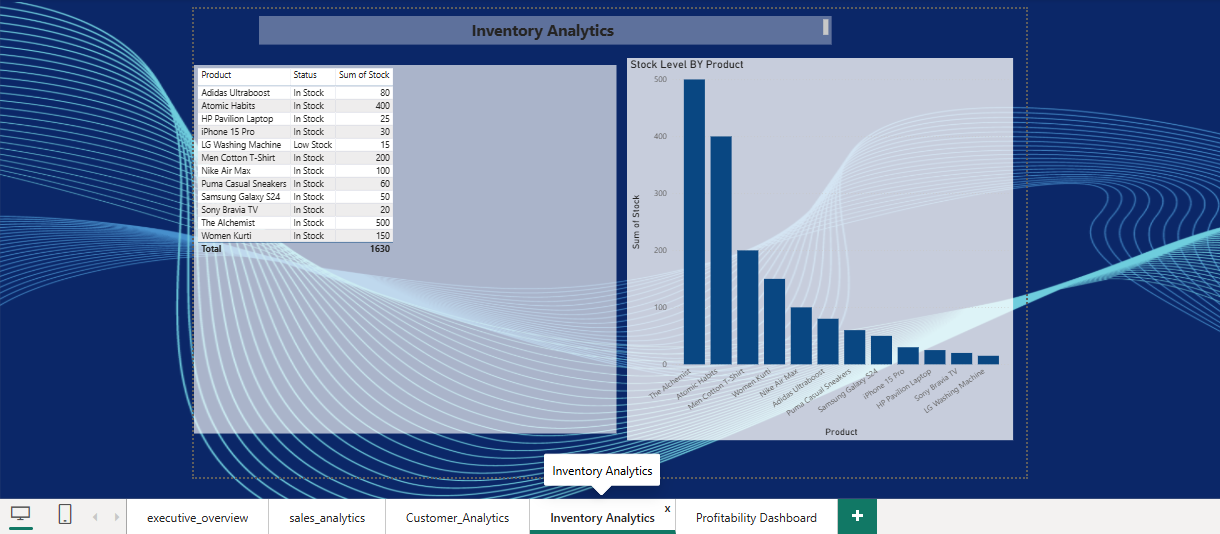

This screenshot's page, from the dashboard's own definition file:
{"tool":"powerbi","page":{"name":"Inventory Analytics","canvas":[1280,720],"ordinal":3},"visuals":[{"type":"tableEx","fields":{"Values":["inventory_status.Product","inventory_status.Status","Sum(inventory_status.Stock)"]},"box":[0,85.7,650,567.1],"z":0},{"type":"clusteredColumnChart","title":"Stock Level BY Product","fields":{"Category":["inventory_status.Product"],"Y":["Sum(inventory_status.Stock)"]},"box":[665.9,76.1,594.1,588.3],"z":1000},{"type":"textbox","box":[99.5,10.2,881,43.9],"z":2000}]}

Visuals, with their boxes on the page's 1280x720 design canvas (x1, y1, x2, y2). These are canvas units, not pixel positions in the 1220x534 screenshot, which may show the page scaled, cropped or inside an application window:
tableEx - inventory_status.Product x inventory_status.Status: 0, 86, 650, 653
"Stock Level BY Product" clusteredColumnChart: 666, 76, 1260, 664
textbox: 100, 10, 980, 54
